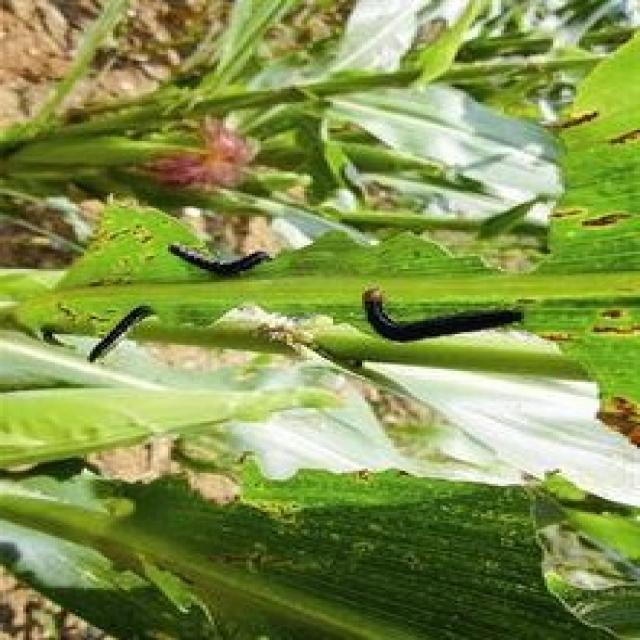army worm: (359, 290, 530, 350), (85, 305, 160, 365), (166, 246, 276, 277)
